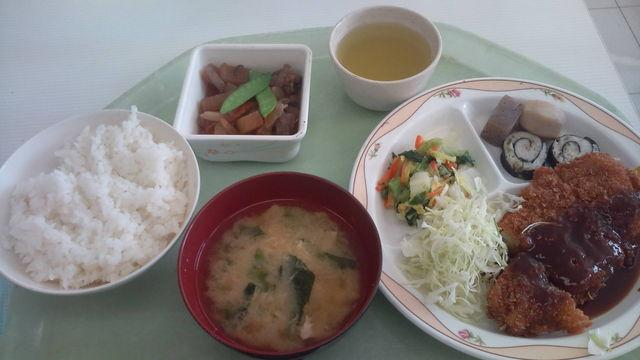plate: (349, 77, 639, 359)
rice: (3, 114, 190, 289)
